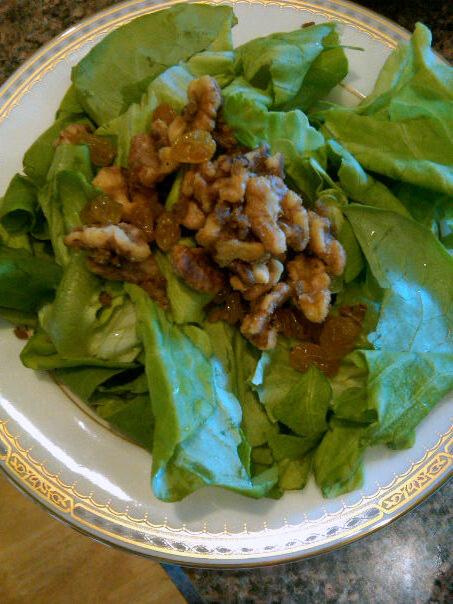chopped lettuce: (24, 292, 453, 500), (87, 9, 453, 176)
